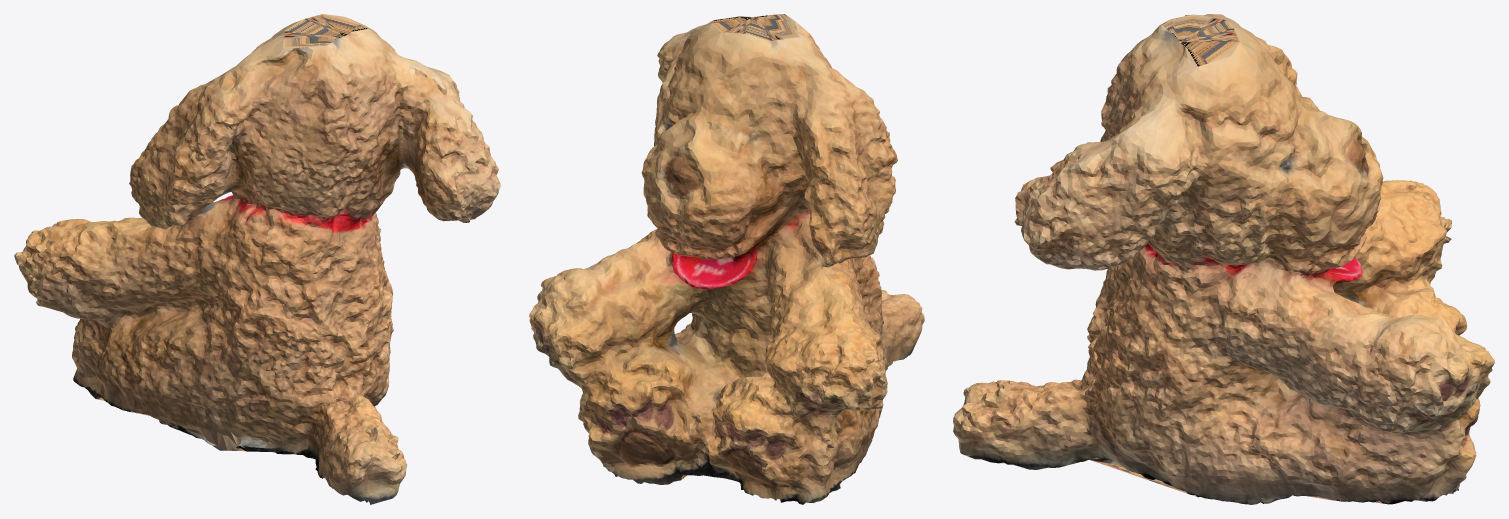
The model's file is teddy dog.fbx.
The picture shows the model from 3 angles, left to right: view 1: azimuth 30°, elevation 25°; view 2: azimuth 150°, elevation 25°; view 3: azimuth 270°, elevation 25°; orthographic projection. The views are drawn at different scales.
Visible parts, largest first — view 1: textured; view 2: textured; view 3: textured.
Boxes of the visible parts, x1=… form: textured: x1=14, y1=14, x2=500, y2=504; textured: x1=529, y1=14, x2=924, y2=504; textured: x1=953, y1=14, x2=1494, y2=504.
Size of the model in its own units: 78.79 by 85.77 by 93.88.
